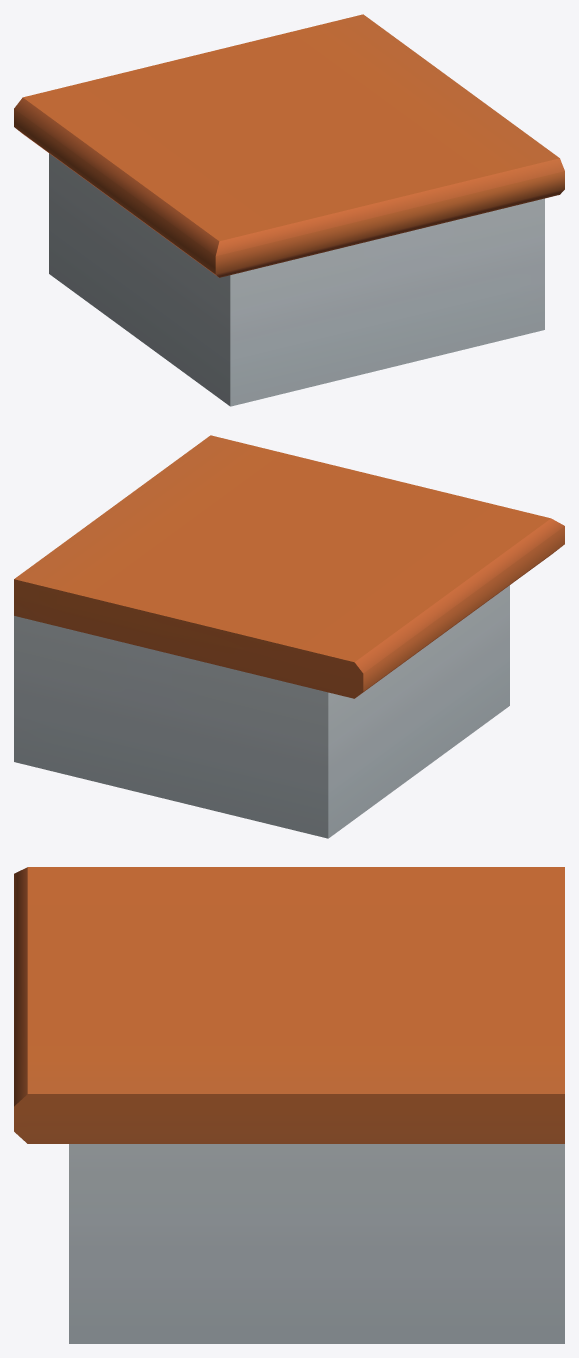
File: kkr.kitchencounter_outercorner.glb
3 views of the same model, one above another, from view 1: azimuth 30°, elevation 25°; view 2: azimuth 150°, elevation 25°; view 3: azimuth 270°, elevation 25° (orthographic). The views are drawn at different scales.
Parts seen in each view (by area): view 1: kitchencounter_outercorner; view 2: kitchencounter_outercorner; view 3: kitchencounter_outercorner.
Boxes of the visible parts, box(x1,y1,x2,y2) form: kitchencounter_outercorner: box(14, 14, 564, 406); kitchencounter_outercorner: box(14, 435, 564, 838); kitchencounter_outercorner: box(14, 867, 564, 1343).
Size of the model in its own units: 1.49 by 0.7451 by 1.49.
1 material, 1 textured.
